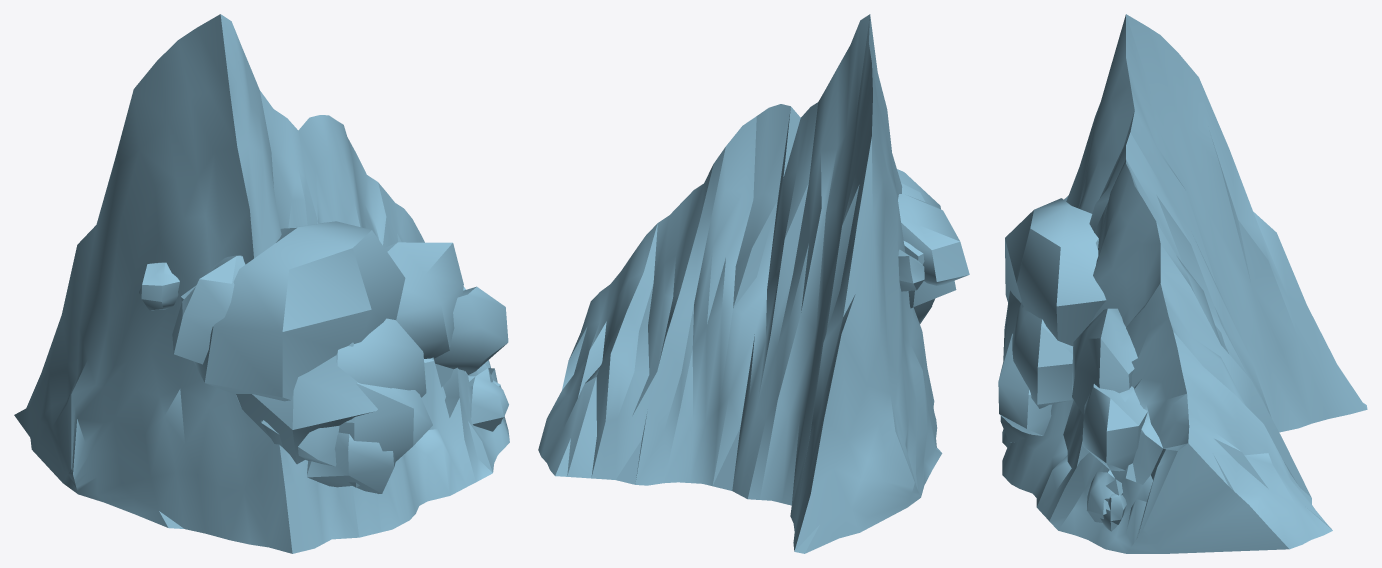
File: lithium-iceberg-big.glb
3 views of the same model, side by side, from view 1: azimuth 30°, elevation 25°; view 2: azimuth 150°, elevation 25°; view 3: azimuth 270°, elevation 25° (orthographic). The views are drawn at different scales.
Visible parts, largest first — view 1: body; view 2: body; view 3: body.
Boxes of the visible parts, <box> form: body: <box>14,14,509,553</box>; body: <box>538,14,969,553</box>; body: <box>998,14,1367,553</box>.
Size of the model in its own units: 1.89 by 2.27 by 1.81.
